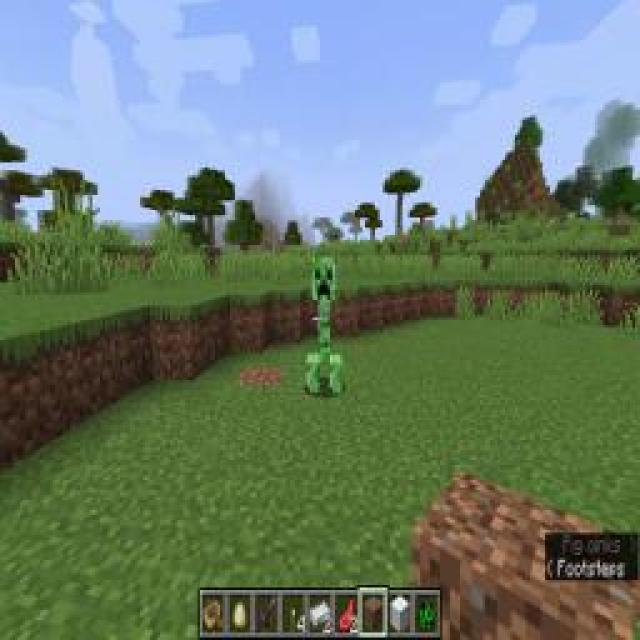Creeper: (305, 250, 345, 400)
